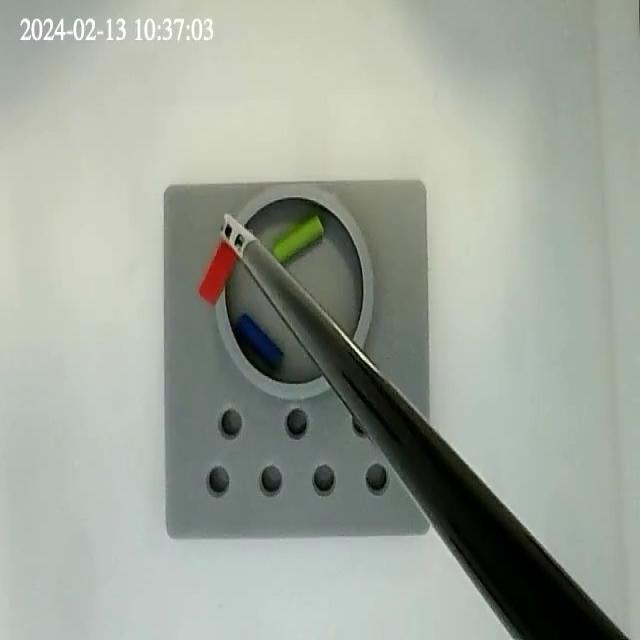EmptyHole: (365, 459, 390, 498), (310, 462, 335, 496), (206, 463, 230, 498), (259, 461, 283, 496), (351, 407, 376, 440), (219, 406, 243, 440), (286, 407, 308, 439)
